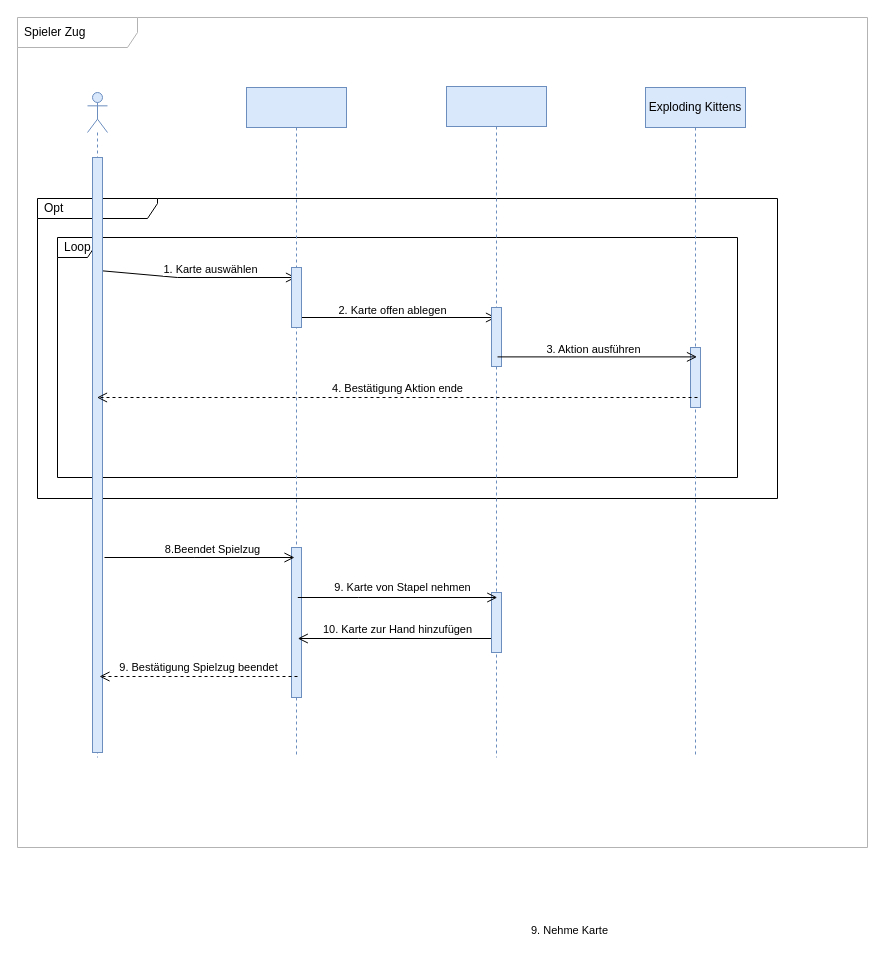
Some shapes in this 885 by 954 pixel diagram are drawn without their labels. The box of each missing label's shape, as (x1, y1, x2, y2) in pixels:
Hand: (246, 86, 346, 758)
Stapel: (446, 86, 546, 758)
